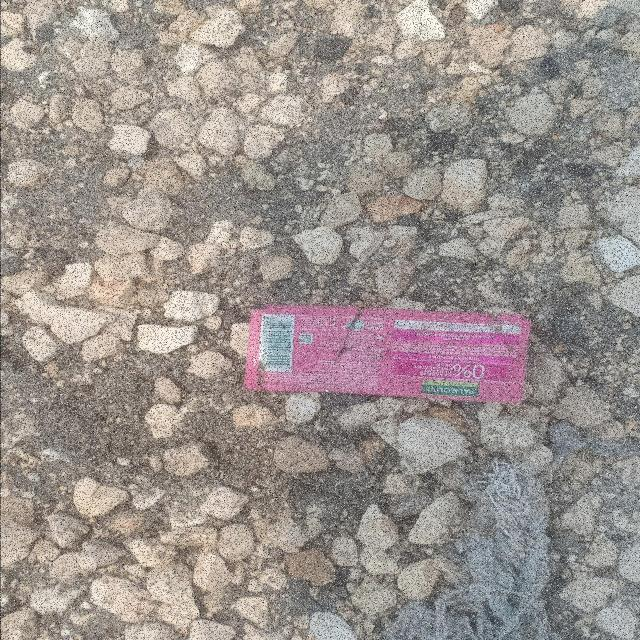plastic_waste: (244, 303, 533, 406)
